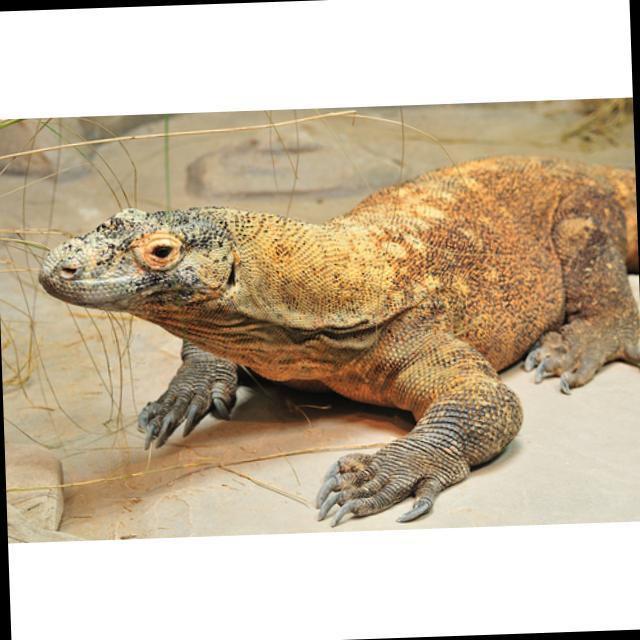KomodoDragon: (35, 150, 640, 535)
